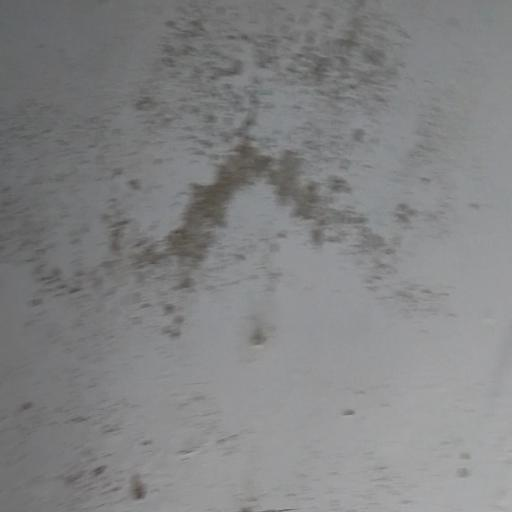peeling: (0, 0, 512, 356)
